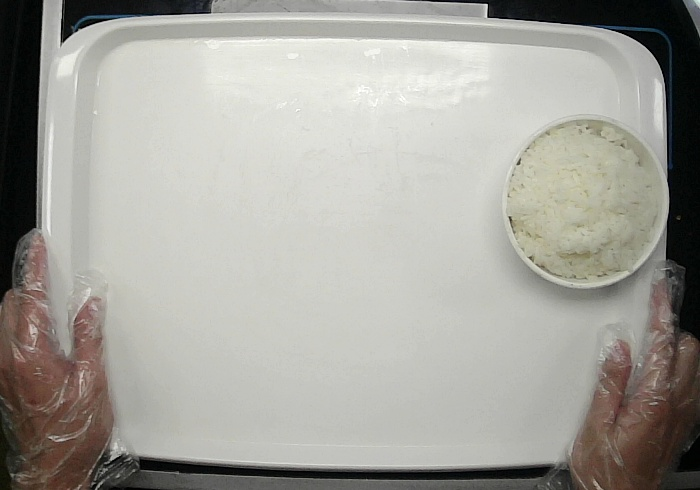HZYJPL-Fan_Wan: (502, 113, 670, 289)
